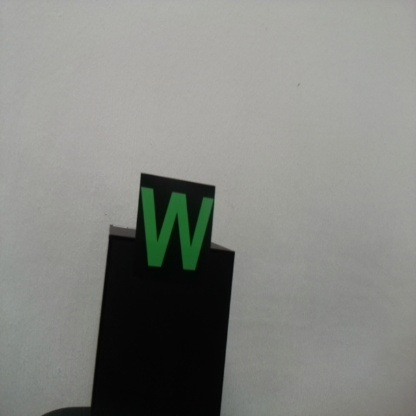id_12: (137, 173, 215, 287)
